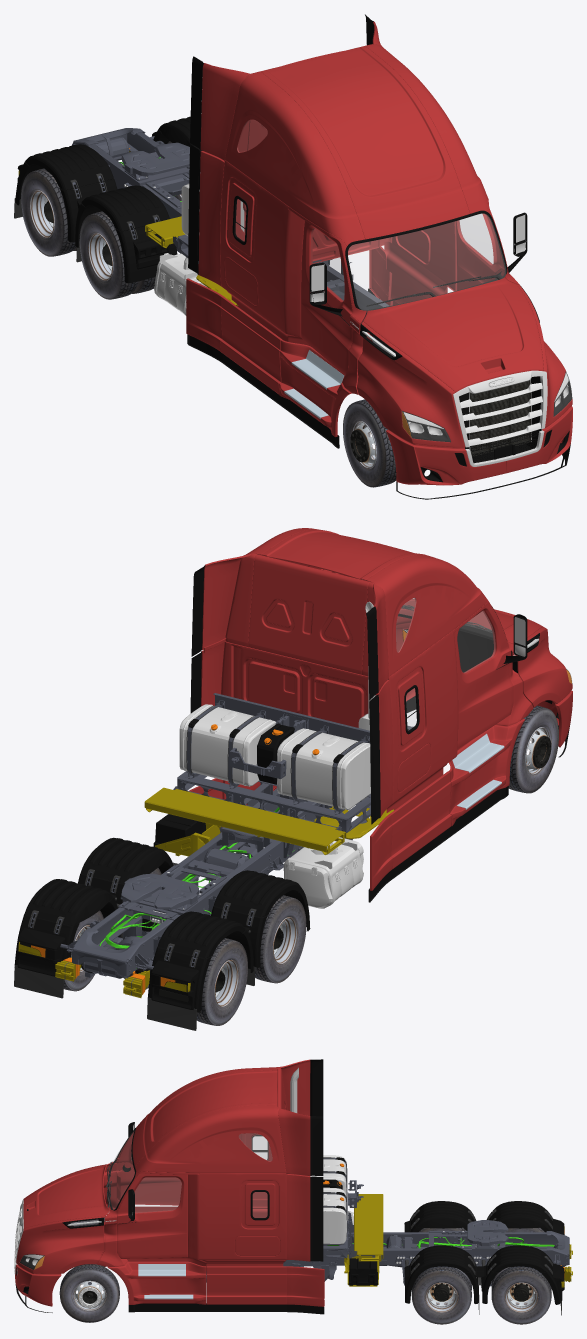
The model's file is cascadia.original.glb.
3 renders of one model, top to bottom at view 1: azimuth 30°, elevation 25°; view 2: azimuth 150°, elevation 25°; view 3: azimuth 270°, elevation 25°, orthographic. The views are drawn at different scales.
Parts seen in each view (by area): view 1: cab truck 001_2, glass 003_65, guarda fango_49, plastico_1, chassis _47, cromium_0, Box010_63, Torus006_37, Torus007_38, Torus008_39, ruedas de camion_42, chassis cascadia _62 (+5 smaller); view 2: cab truck 001_2, chassis _47, guarda fango_49, tanque de combutible _57, plastico_1, pasarela _54, chassis cascadia _62, glass 003_65, Torus008_39, Torus006_37, Torus007_38, ruedas de camion_42 (+8 smaller); view 3: cab truck 001_2, guarda fango_49, chassis _47, plastico_1, glass 003_65, tanque de combutible _57, Torus001_32, Torus002_33, Torus004_35, pasarela _54, ruedas de camion_42, pasos_66 (+4 smaller).
Boxes of the visible parts, x1=… form: cab truck 001_2: x1=186, y1=21, x2=572, y2=485; glass 003_65: x1=236, y1=120, x2=505, y2=310; guarda fango_49: x1=15, y1=116, x2=202, y2=283; plastico_1: x1=187, y1=14, x2=570, y2=499; chassis _47: x1=72, y1=128, x2=394, y2=352; cromium_0: x1=310, y1=214, x2=568, y2=466; Box010_63: x1=469, y1=379, x2=531, y2=456; Torus006_37: x1=343, y1=399, x2=396, y2=487; Torus007_38: x1=21, y1=168, x2=76, y2=256; Torus008_39: x1=79, y1=211, x2=137, y2=299; ruedas de camion_42: x1=30, y1=190, x2=376, y2=468; chassis cascadia _62: x1=154, y1=253, x2=207, y2=315; cab truck 001_2: x1=189, y1=528, x2=572, y2=890; chassis _47: x1=29, y1=693, x2=413, y2=995; guarda fango_49: x1=14, y1=837, x2=310, y2=1012; tanque de combutible _57: x1=150, y1=601, x2=375, y2=923; plastico_1: x1=190, y1=565, x2=570, y2=902; pasarela _54: x1=144, y1=787, x2=393, y2=854; chassis cascadia _62: x1=155, y1=823, x2=363, y2=908; glass 003_65: x1=396, y1=598, x2=495, y2=730; Torus008_39: x1=255, y1=895, x2=306, y2=983; Torus006_37: x1=508, y1=705, x2=558, y2=793; Torus007_38: x1=196, y1=938, x2=247, y2=1025; ruedas de camion_42: x1=75, y1=727, x2=549, y2=1007; cab truck 001_2: x1=15, y1=1059, x2=324, y2=1306; guarda fango_49: x1=404, y1=1201, x2=564, y2=1304; chassis _47: x1=88, y1=1158, x2=570, y2=1286; plastico_1: x1=15, y1=1059, x2=324, y2=1314; glass 003_65: x1=107, y1=1130, x2=272, y2=1217; tanque de combutible _57: x1=290, y1=1067, x2=494, y2=1263; Torus001_32: x1=59, y1=1264, x2=119, y2=1322; Torus002_33: x1=411, y1=1266, x2=471, y2=1324; Torus004_35: x1=491, y1=1266, x2=551, y2=1324; pasarela _54: x1=354, y1=1194, x2=383, y2=1261; ruedas de camion_42: x1=73, y1=1280, x2=538, y2=1312; pasos_66: x1=138, y1=1264, x2=193, y2=1299.
Size of the model in its own units: 3.05 by 4.11 by 9.99.
14 materials, 3 textured.
